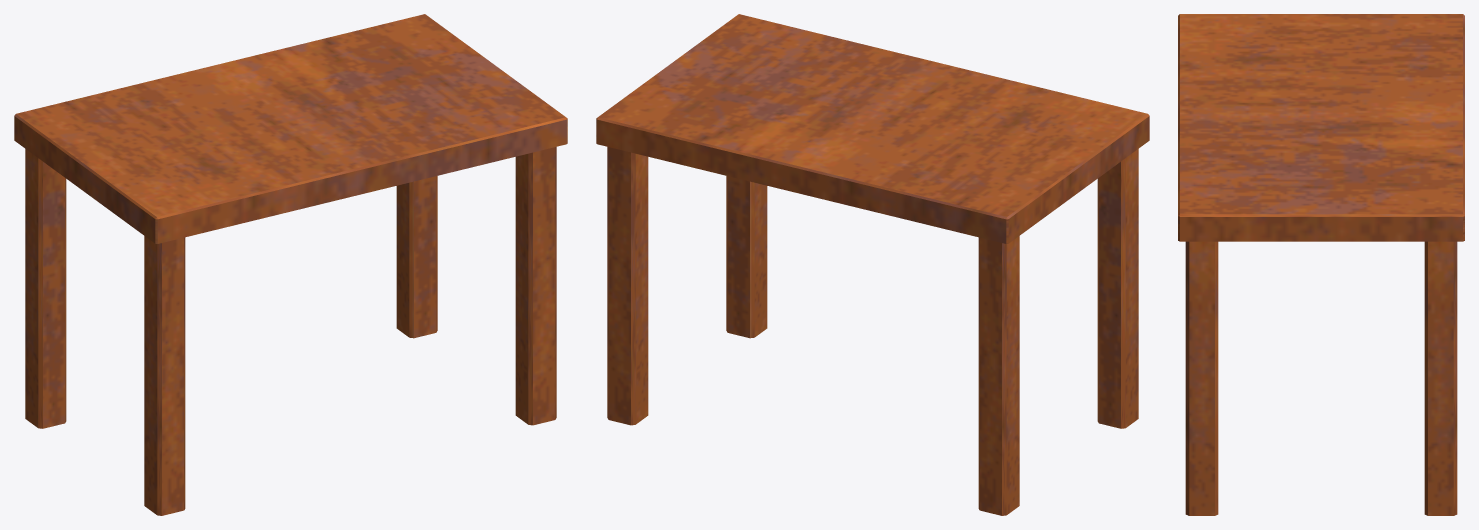
Rendered from desk.glb.
3 renders of one model, left to right at view 1: azimuth 30°, elevation 25°; view 2: azimuth 150°, elevation 25°; view 3: azimuth 270°, elevation 25°, orthographic.
Visible parts, largest first — view 1: Desk, Legs; view 2: Desk, Legs; view 3: Desk, Legs.
Boxes of the visible parts, left/top/right/bottom form: Desk: left=14, top=14, right=567, bottom=243; Legs: left=25, top=147, right=556, bottom=515; Desk: left=596, top=14, right=1149, bottom=243; Legs: left=607, top=147, right=1138, bottom=515; Desk: left=1178, top=14, right=1464, bottom=241; Legs: left=1185, top=241, right=1457, bottom=515.
Bounding box in the file's own units: 1 × 0.702 × 0.6.
1 material, 1 textured.
